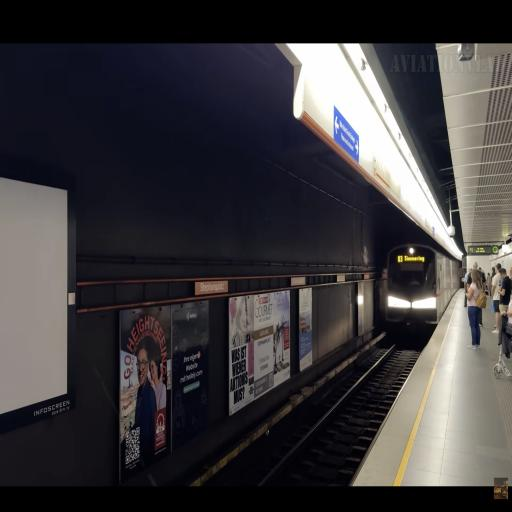V-Wagen: (385, 242, 460, 344)
